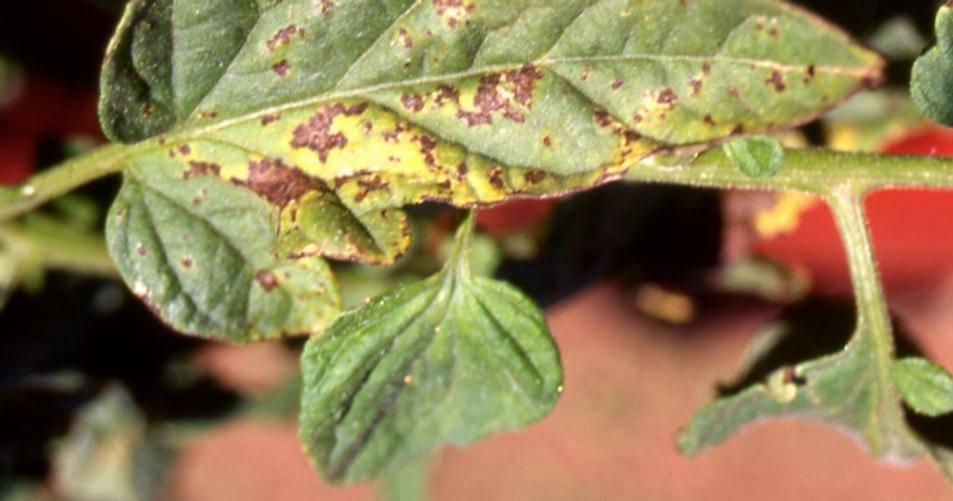Tomato leaf bacterial spot: (73, 0, 912, 339), (263, 224, 580, 501)
